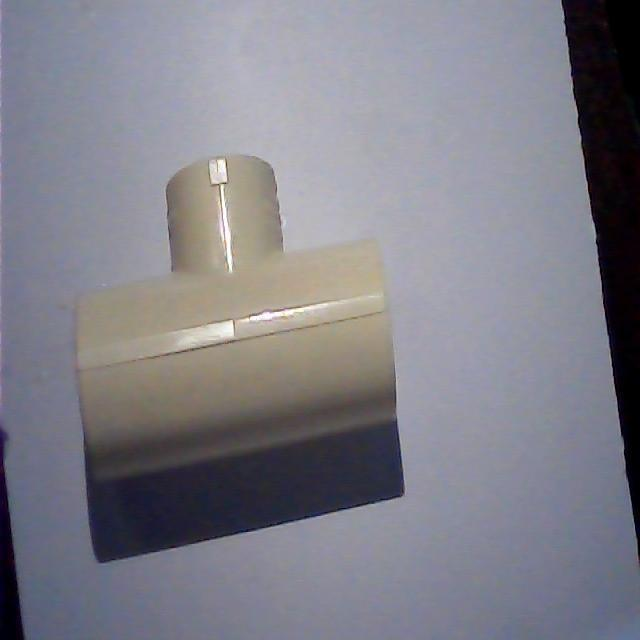Defective: (190, 146, 252, 286)
T Joint: (77, 156, 397, 482)
